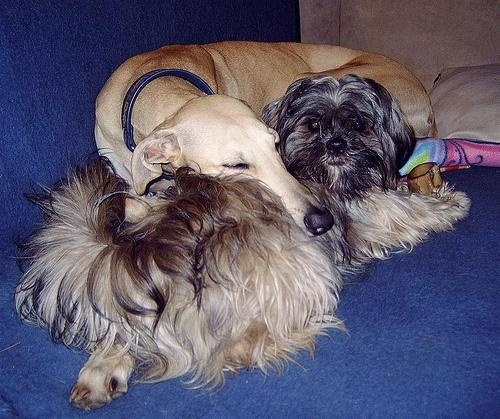dog: (15, 75, 475, 412), (94, 41, 437, 238)
